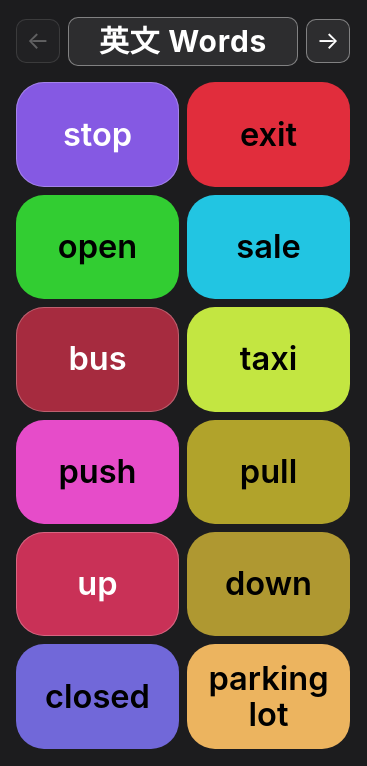
cycles back to English after Taigi
Click the button with aria-label "switch language" at (183, 41), box [68,17,298,66]
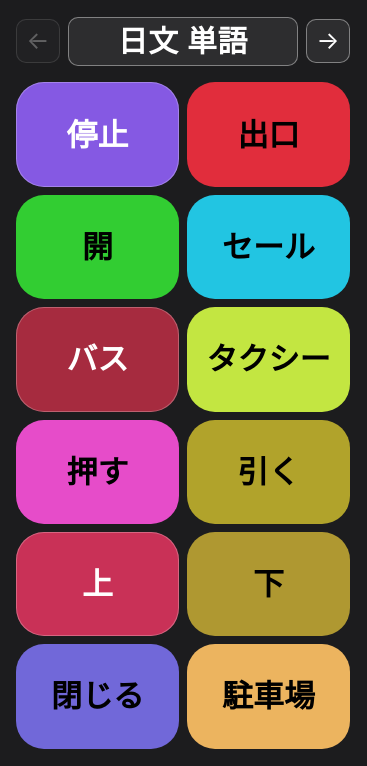
Click the button with aria-label "switch language" at (183, 41), box [68,17,298,66]
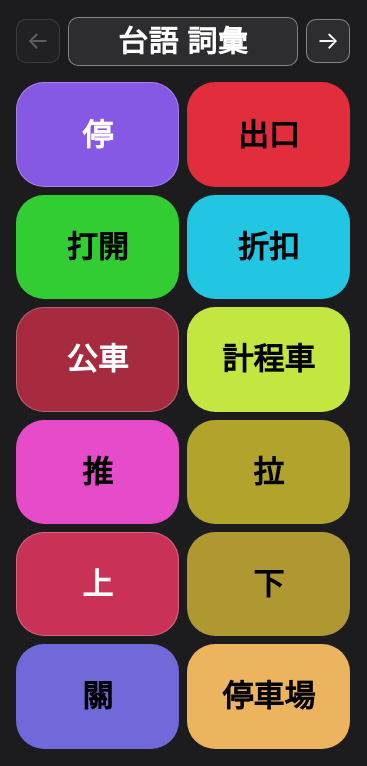
Click the button with aria-label "switch language" at (183, 41), box [68,17,298,66]
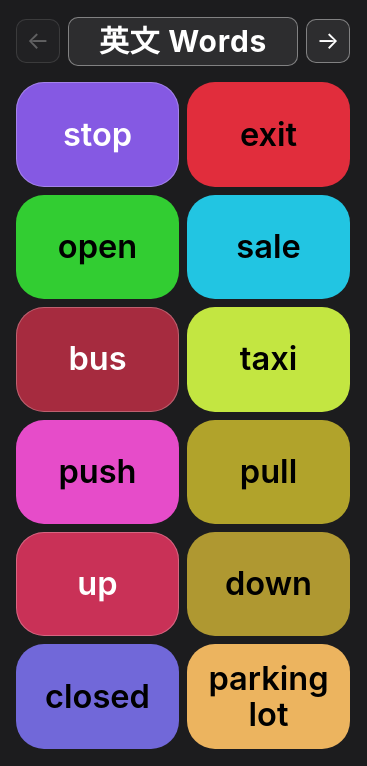
expect the button "stop" is shown: met, box [16,82,179,187]
expect the heading "英文 Words" is shown: met, box [68,25,298,58]
